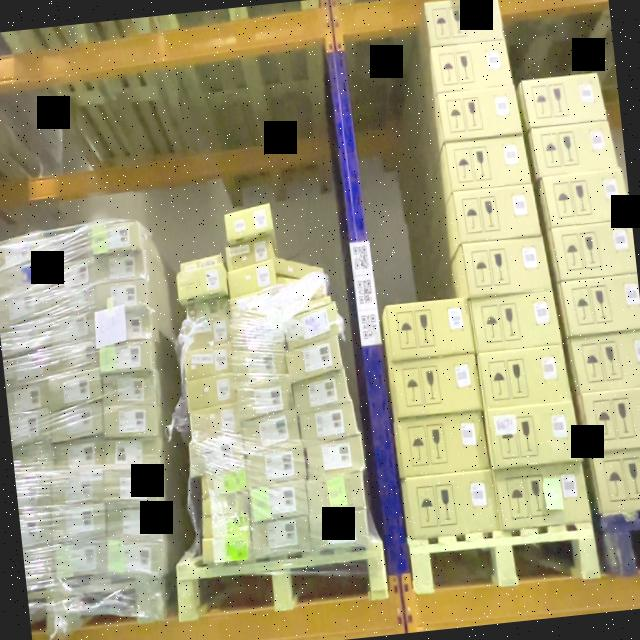box: (405, 468, 499, 538), (496, 462, 591, 528), (488, 401, 580, 468), (388, 354, 482, 418), (480, 344, 570, 409), (398, 412, 489, 476), (468, 290, 560, 352), (387, 296, 474, 360), (462, 236, 550, 298), (544, 170, 630, 228), (554, 221, 637, 281), (559, 275, 640, 336), (530, 120, 618, 176), (454, 184, 538, 242), (447, 136, 529, 192), (440, 85, 520, 141), (524, 74, 606, 128), (569, 332, 640, 394), (432, 42, 512, 94), (12, 450, 56, 543), (581, 387, 640, 452), (426, 0, 503, 47), (594, 448, 640, 511), (308, 509, 372, 553), (250, 479, 310, 522), (308, 472, 368, 514), (104, 468, 164, 510), (244, 446, 306, 486), (304, 437, 364, 478), (251, 518, 310, 559), (297, 402, 356, 443), (104, 433, 164, 473), (102, 369, 159, 411), (107, 541, 165, 582), (292, 372, 350, 412), (235, 379, 293, 419), (52, 502, 107, 544), (104, 399, 160, 440), (107, 504, 164, 544), (286, 340, 342, 380), (242, 413, 300, 451), (283, 304, 338, 344), (47, 369, 102, 409), (54, 542, 108, 582), (96, 304, 150, 344), (94, 276, 149, 315), (182, 338, 234, 379), (188, 436, 244, 474), (0, 290, 50, 332), (52, 402, 104, 442), (233, 348, 288, 384), (8, 409, 54, 452), (52, 470, 104, 507), (99, 340, 153, 375), (54, 438, 106, 473), (231, 316, 284, 350), (186, 374, 236, 410), (189, 405, 239, 441), (226, 205, 274, 241), (228, 260, 278, 294), (278, 280, 330, 312), (90, 220, 140, 253), (179, 266, 227, 300), (91, 252, 142, 284), (48, 312, 94, 346), (48, 342, 98, 373), (226, 238, 274, 268), (195, 469, 248, 496), (182, 295, 228, 326), (230, 290, 279, 319), (200, 512, 248, 541), (200, 537, 250, 564), (4, 352, 48, 382), (274, 253, 321, 280), (48, 262, 90, 290), (202, 492, 246, 518), (0, 328, 47, 352), (0, 264, 42, 289), (181, 320, 228, 342), (48, 288, 92, 309), (0, 240, 43, 261), (6, 390, 49, 411), (181, 253, 222, 270)
